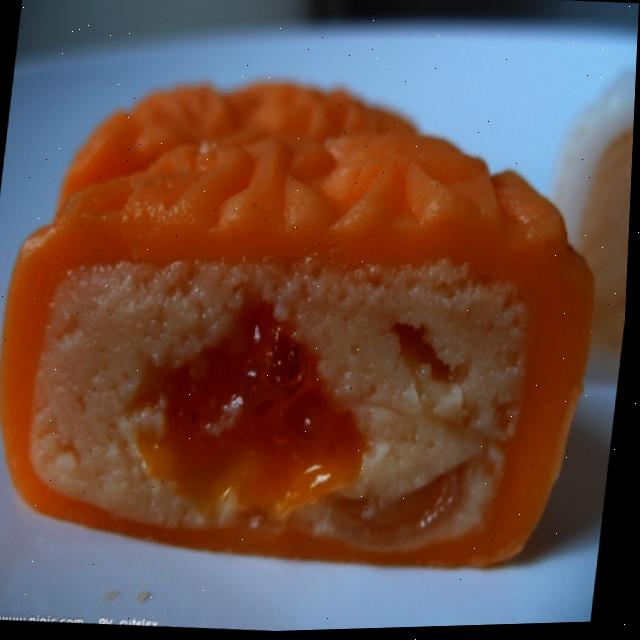蛋糕甜品: (0, 46, 619, 607)
